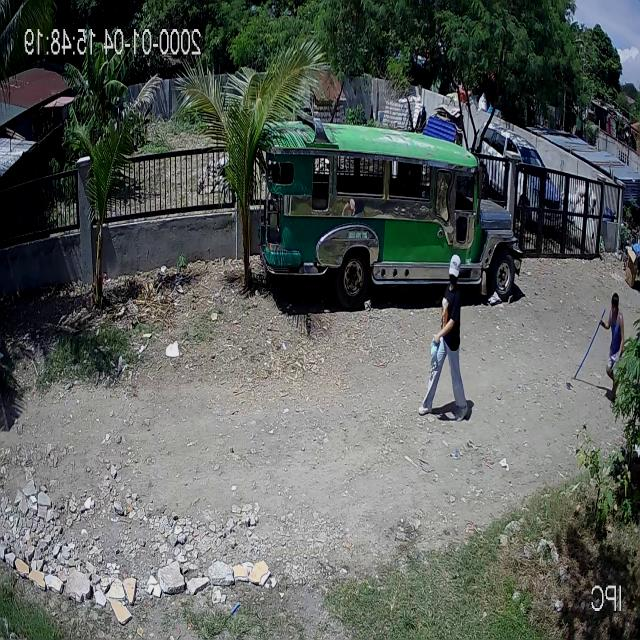running: (576, 293, 626, 408)
walking: (419, 255, 466, 419)
